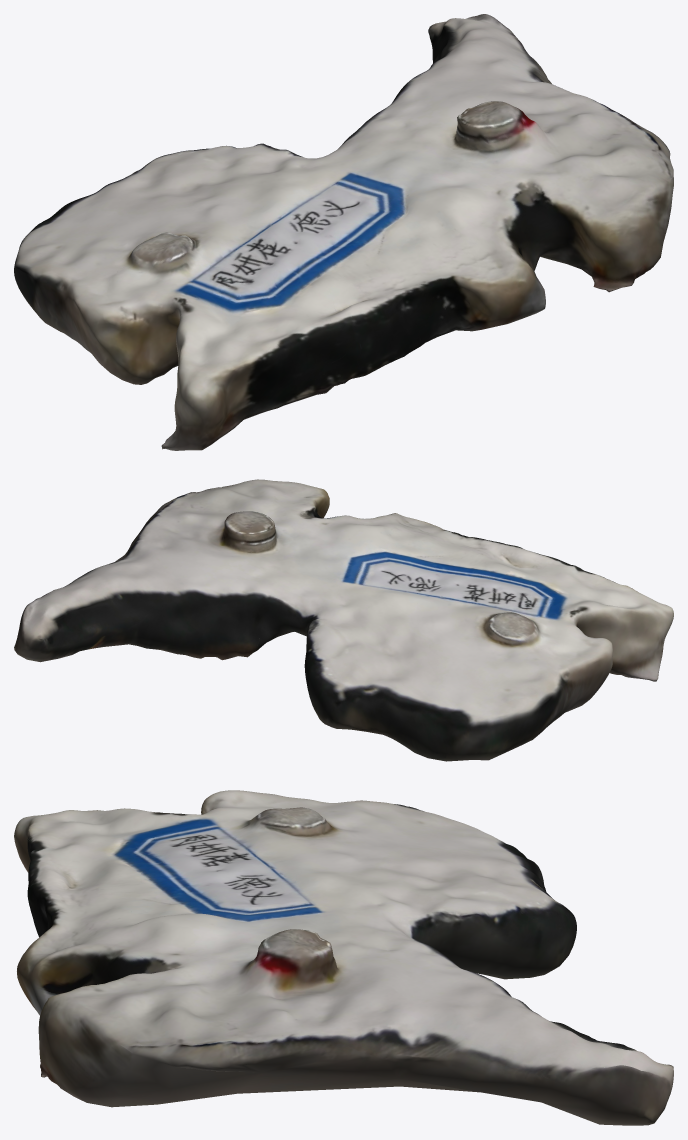
The picture shows the model from 3 angles, top to bottom: view 1: azimuth 30°, elevation 25°; view 2: azimuth 150°, elevation 25°; view 3: azimuth 270°, elevation 25°; orthographic projection. The views are drawn at different scales.
Bounding box in the file's own units: 0.5937 × 0.1692 × 0.5071.
1 material, 1 textured.
